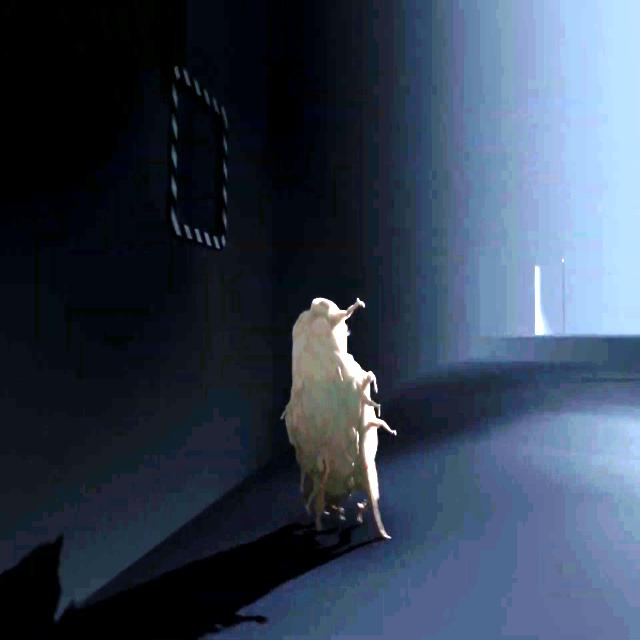blob: (283, 298, 392, 540)
